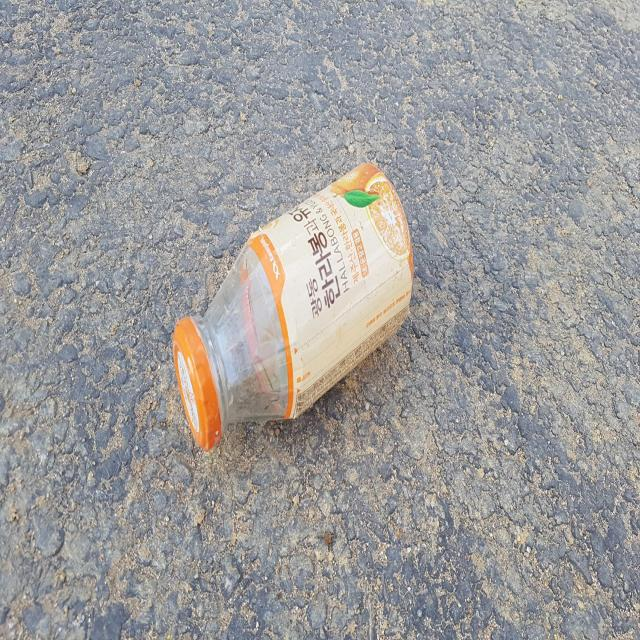glass: (173, 163, 414, 448)
